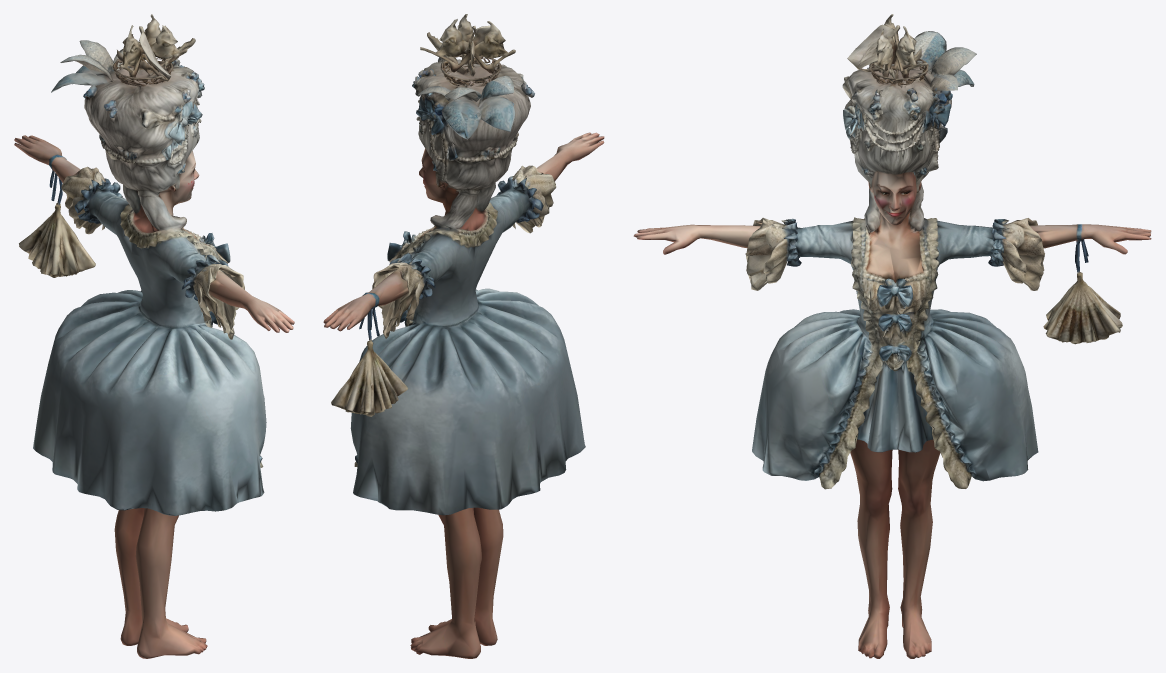
Rendered from the-marquise.glb.
3 views of the same model, side by side, from view 1: azimuth 30°, elevation 25°; view 2: azimuth 150°, elevation 25°; view 3: azimuth 270°, elevation 25° (orthographic). The views are drawn at different scales.
Parts seen in each view (by area): view 1: 15-marquise; view 2: 15-marquise; view 3: 15-marquise.
Part boxes in pixels (x1,y1,x2,y2): 15-marquise: [14, 14, 294, 658]; 15-marquise: [323, 14, 604, 658]; 15-marquise: [633, 14, 1151, 658].
Size of the model in its own units: 0.2644 by 0.9814 by 0.7481.
Materials: 1 (1 with a texture image).
